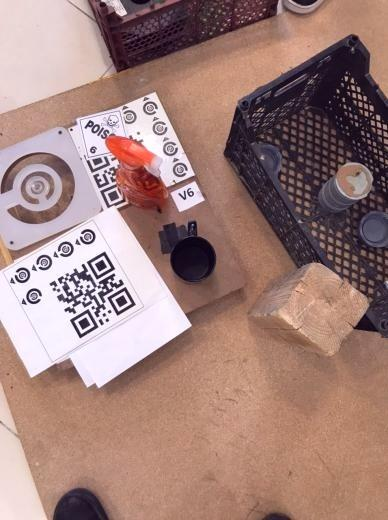poison: (79, 110, 127, 159)
